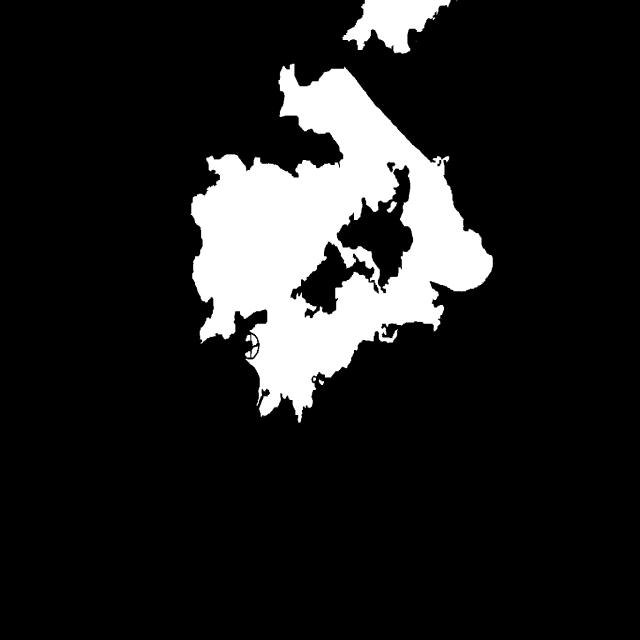fire: (181, 28, 525, 381)
